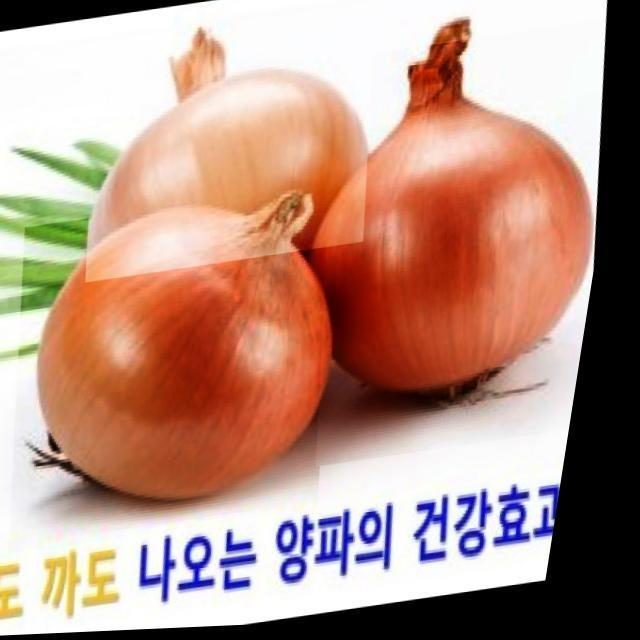Onion: (288, 24, 634, 471), (0, 184, 375, 556), (70, 8, 400, 284)
